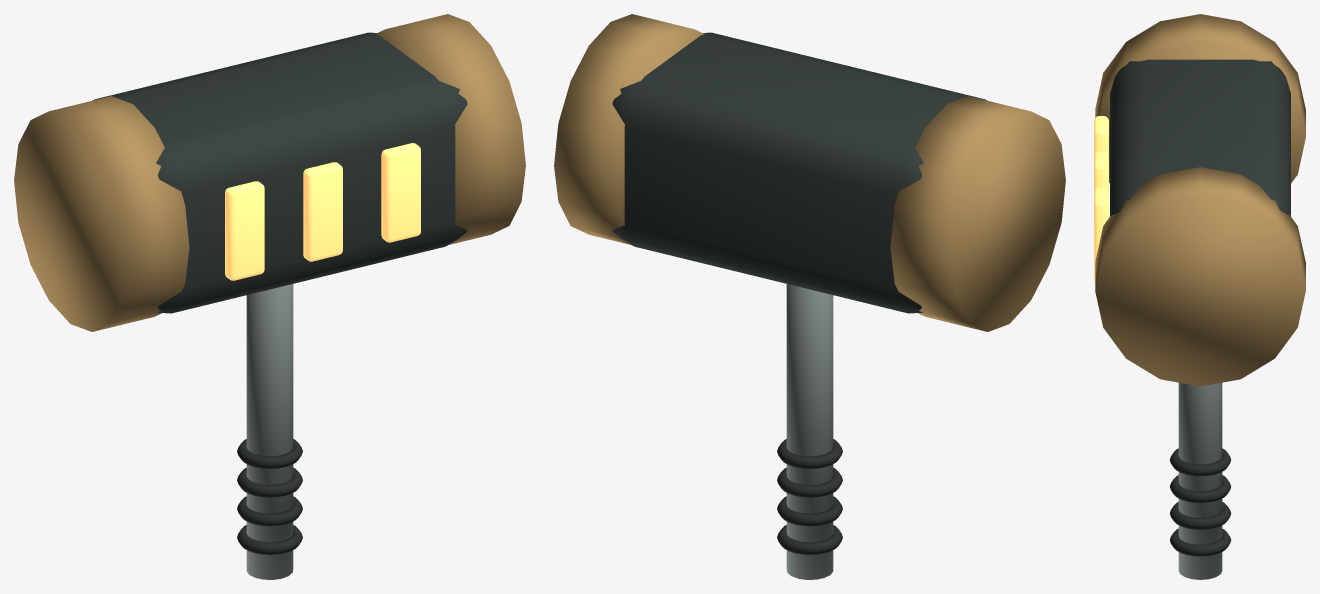
Rendered from hammer.glb.
The picture shows the model from 3 angles, left to right: view 1: azimuth 30°, elevation 25°; view 2: azimuth 150°, elevation 25°; view 3: azimuth 270°, elevation 25°; orthographic projection. The views are drawn at different scales.
Parts seen in each view (by area): view 1: weapon_mechanism, weapon_brass, weapon_steel, weapon_charge, weapon_rubber; view 2: weapon_mechanism, weapon_brass, weapon_steel, weapon_rubber; view 3: weapon_brass, weapon_mechanism, weapon_steel, weapon_rubber, weapon_charge.
Boxes of the visible parts, left/top/right/bottom form: weapon_mechanism: left=93, top=32, right=467, bottom=313; weapon_brass: left=14, top=14, right=525, bottom=331; weapon_steel: left=246, top=284, right=293, bottom=579; weapon_charge: left=225, top=143, right=420, bottom=280; weapon_rubber: left=237, top=439, right=302, bottom=554; weapon_mechanism: left=612, top=32, right=986, bottom=313; weapon_brass: left=554, top=14, right=1065, bottom=331; weapon_steel: left=786, top=284, right=833, bottom=579; weapon_rubber: left=777, top=439, right=842, bottom=554; weapon_brass: left=1095, top=14, right=1305, bottom=386; weapon_mechanism: left=1110, top=59, right=1290, bottom=216; weapon_steel: left=1178, top=382, right=1222, bottom=579; weapon_rubber: left=1170, top=448, right=1231, bottom=556; weapon_charge: left=1094, top=116, right=1108, bottom=282.
Size of the model in its own units: 1.02 by 1.22 by 0.5025.
